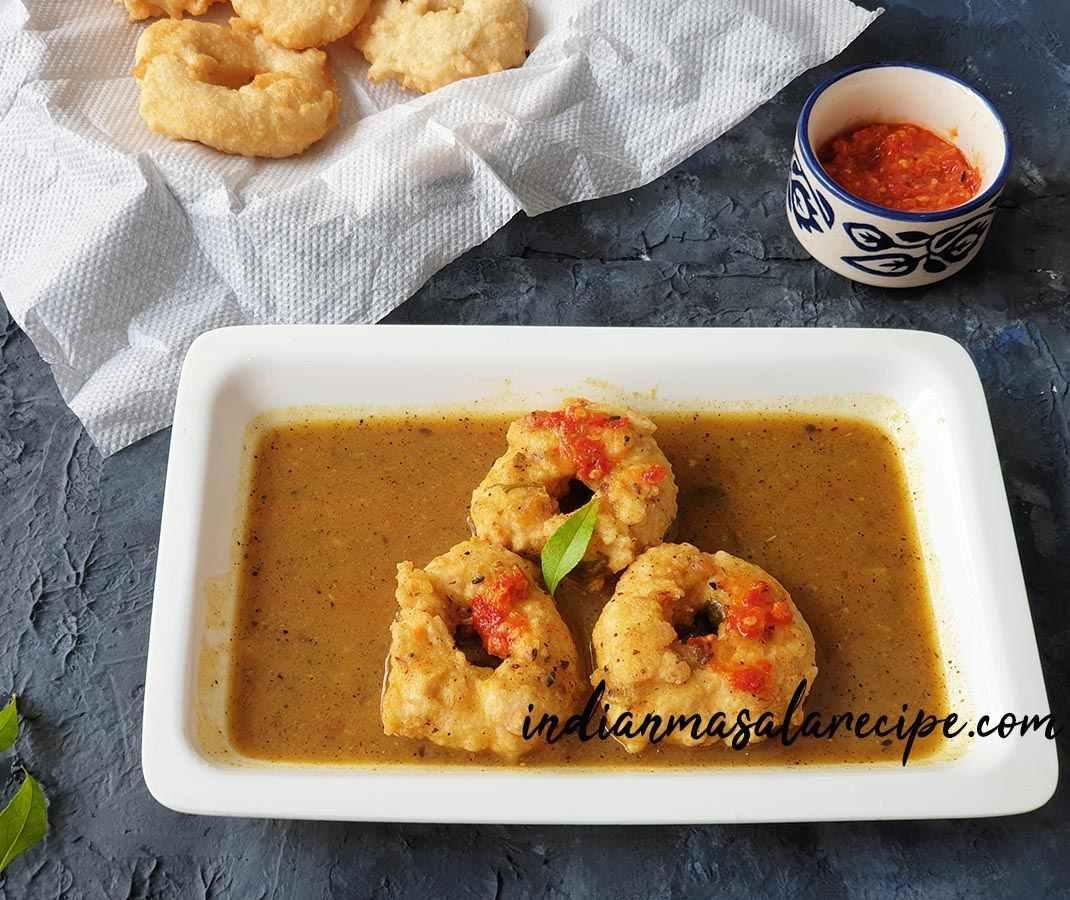mvada: (468, 441, 744, 680)
